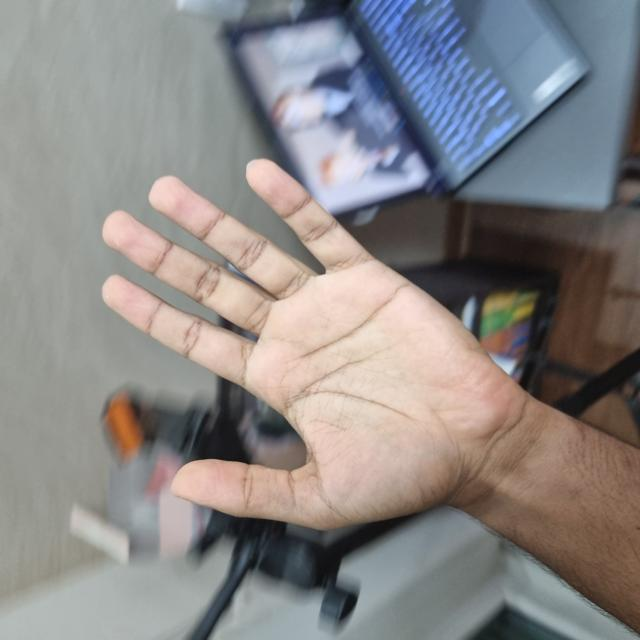Paper: (117, 107, 474, 512)
